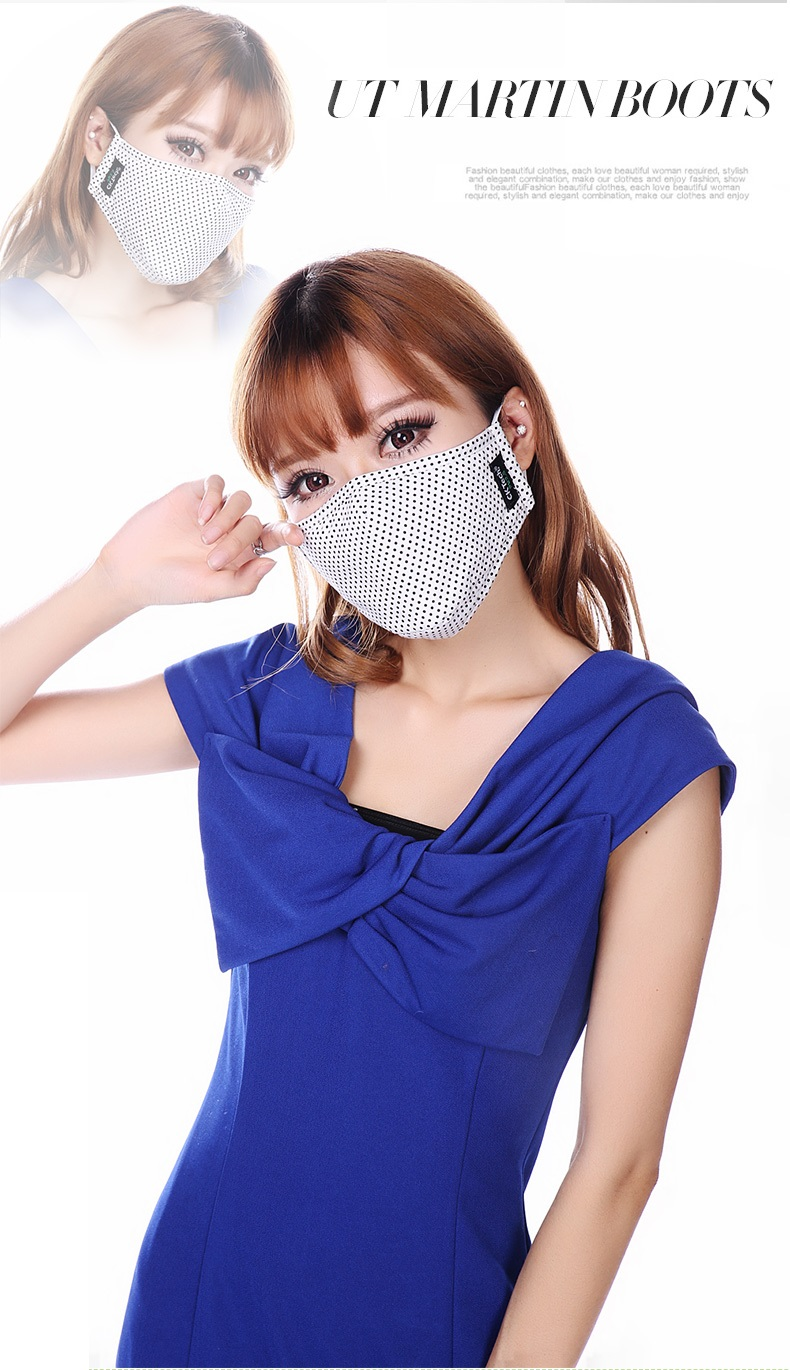face: (274, 356, 512, 636), (109, 81, 262, 292)
